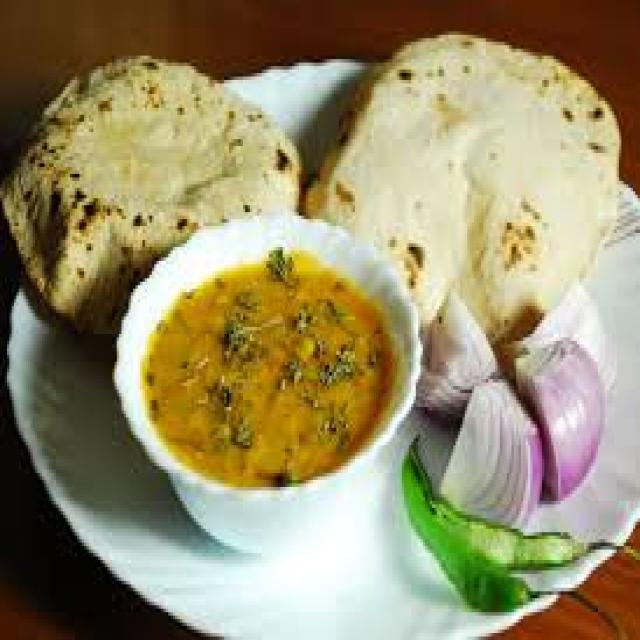ROTI: (306, 31, 621, 341), (0, 63, 299, 330)
